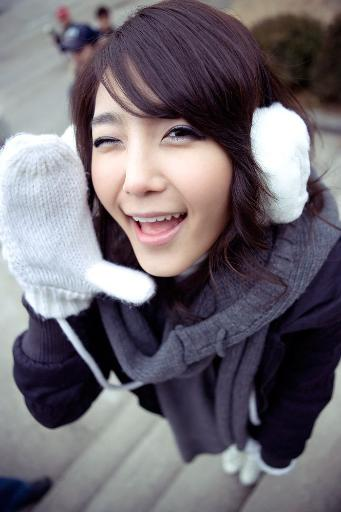left_eye: (161, 125, 203, 149)
left_lip_corner: (182, 209, 192, 223)
right_eye: (95, 136, 125, 153)
